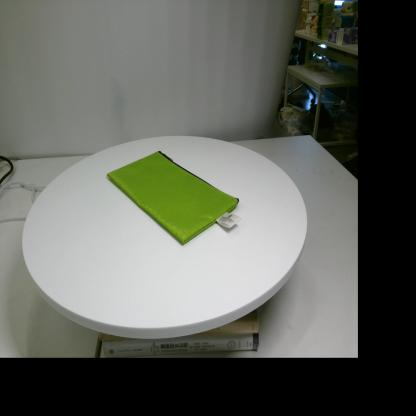Stationery: (107, 151, 241, 244)
